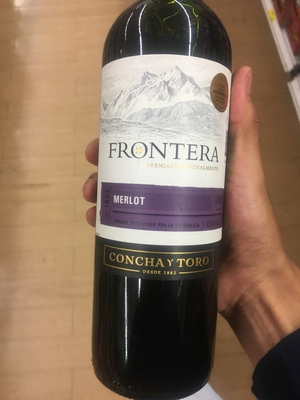frontera merlot: (93, 14, 234, 400)
